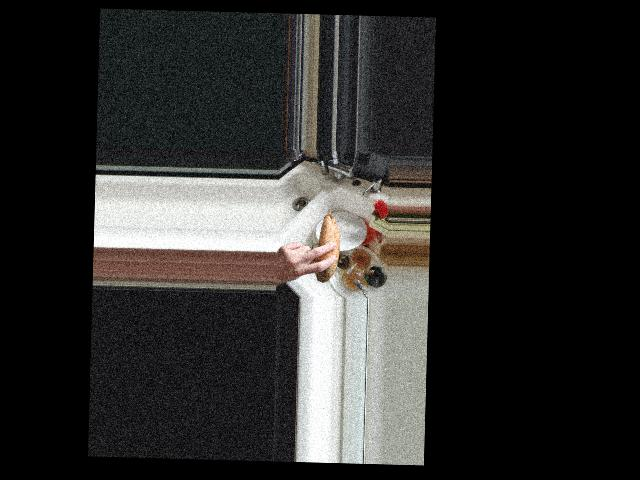sweet_potato: (311, 205, 340, 285)
